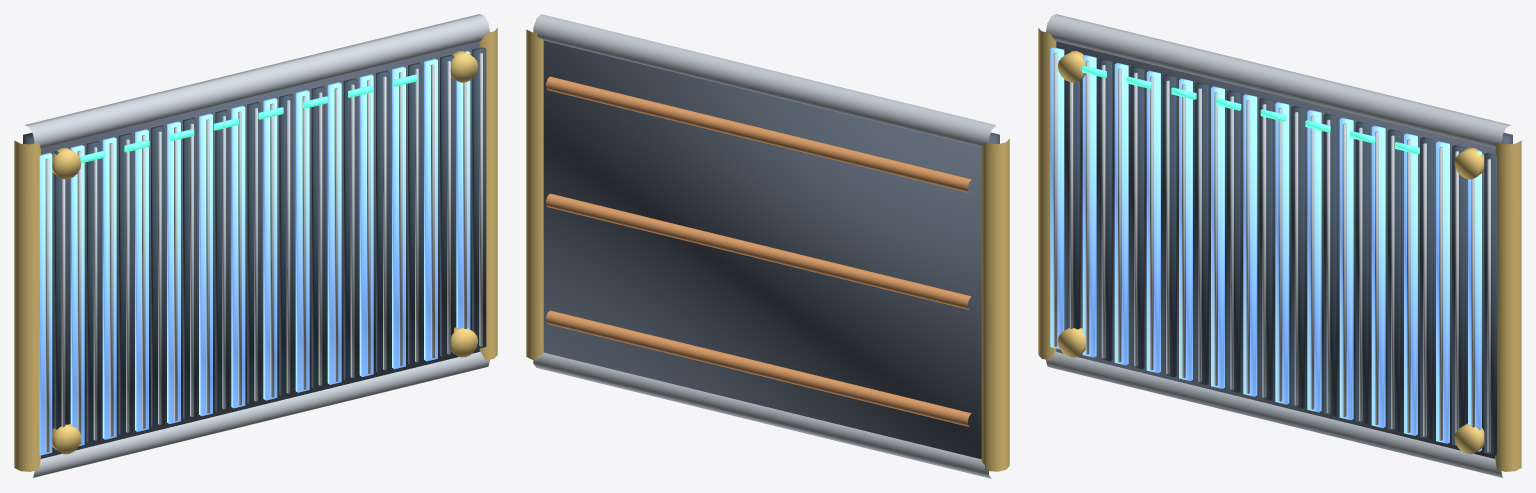
Rendered from 47_L86_ReplacementThermalRadiatorModule.glb.
3 views of the same model, side by side, from view 1: azimuth 30°, elevation 25°; view 2: azimuth 150°, elevation 25°; view 3: azimuth 330°, elevation 25° (orthographic).
Visible parts, largest first — view 1: L86_ReplacementThermalRadiato_Part_0005, L86_ReplacementThermalRadiato_Part_0004, L86_ReplacementThermalRadiato_Part_0002, L86_ReplacementThermalRadiato_Part_0000, L86_ReplacementThermalRadiato_Part_0003, L86_ReplacementThermalRadiato_Part_0001, L86_ReplacementThermalRadiato_Part_0007; view 2: L86_ReplacementThermalRadiato_Part_0000, L86_ReplacementThermalRadiato_Part_0002, L86_ReplacementThermalRadiato_Part_0006, L86_ReplacementThermalRadiato_Part_0001; view 3: L86_ReplacementThermalRadiato_Part_0004, L86_ReplacementThermalRadiato_Part_0005, L86_ReplacementThermalRadiato_Part_0002, L86_ReplacementThermalRadiato_Part_0000, L86_ReplacementThermalRadiato_Part_0003, L86_ReplacementThermalRadiato_Part_0001, L86_ReplacementThermalRadiato_Part_0007.
Boxes of the visible parts, x1=… form: L86_ReplacementThermalRadiato_Part_0005: x1=54, y1=47, x2=486, y2=451; L86_ReplacementThermalRadiato_Part_0004: x1=39, y1=51, x2=470, y2=455; L86_ReplacementThermalRadiato_Part_0002: x1=25, y1=14, x2=489, y2=477; L86_ReplacementThermalRadiato_Part_0000: x1=23, y1=41, x2=479, y2=458; L86_ReplacementThermalRadiato_Part_0003: x1=270, y1=52, x2=482, y2=397; L86_ReplacementThermalRadiato_Part_0001: x1=14, y1=28, x2=497, y2=471; L86_ReplacementThermalRadiato_Part_0007: x1=79, y1=74, x2=417, y2=163; L86_ReplacementThermalRadiato_Part_0000: x1=543, y1=40, x2=999, y2=459; L86_ReplacementThermalRadiato_Part_0002: x1=533, y1=14, x2=995, y2=478; L86_ReplacementThermalRadiato_Part_0006: x1=546, y1=76, x2=971, y2=426; L86_ReplacementThermalRadiato_Part_0001: x1=526, y1=29, x2=1009, y2=471; L86_ReplacementThermalRadiato_Part_0004: x1=1050, y1=47, x2=1481, y2=451; L86_ReplacementThermalRadiato_Part_0005: x1=1066, y1=51, x2=1496, y2=455; L86_ReplacementThermalRadiato_Part_0002: x1=1046, y1=14, x2=1510, y2=477; L86_ReplacementThermalRadiato_Part_0000: x1=1056, y1=41, x2=1512, y2=458; L86_ReplacementThermalRadiato_Part_0003: x1=1278, y1=108, x2=1490, y2=452; L86_ReplacementThermalRadiato_Part_0001: x1=1038, y1=28, x2=1521, y2=471; L86_ReplacementThermalRadiato_Part_0007: x1=1082, y1=65, x2=1419, y2=154.
Size of the model in its own units: 3.44 by 2.41 by 0.2803.
